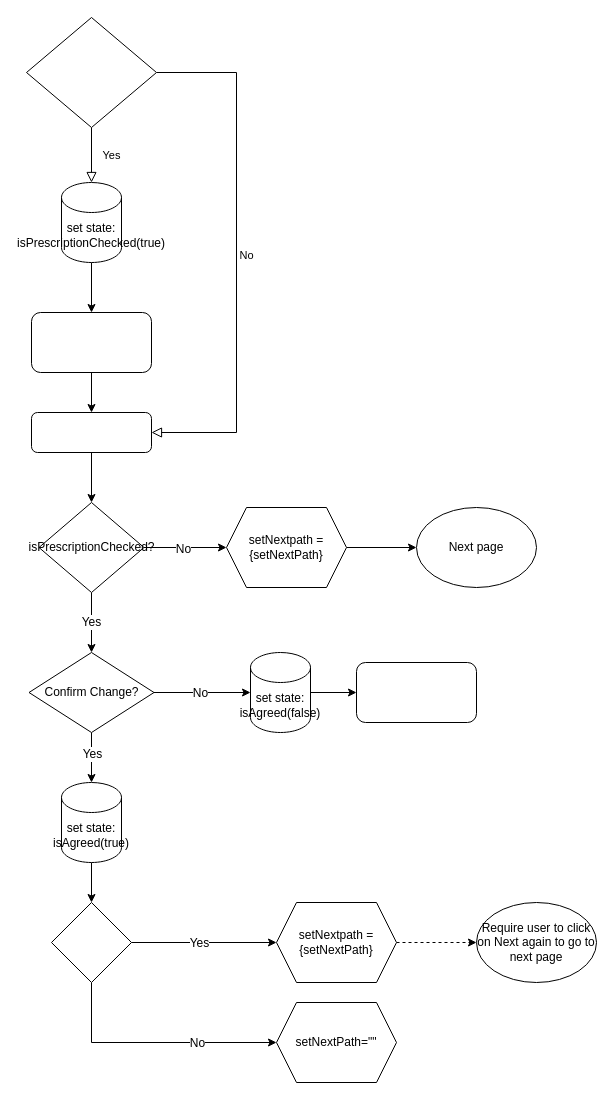
Some shapes in this 614 by 1100 pixel diagram are drawn without their labels. Here are the shapes that lost their labels. From the top down, the centre of each, then its label:
At point (91, 72): "Prescription Checkbox checked?".
At point (91, 342): "Change/update prescription details".
At point (91, 432): "Next Button".
At point (416, 692): "Return to page".
At point (91, 942): "isAgreed true? isPrescriptionCheckedtrue?".
